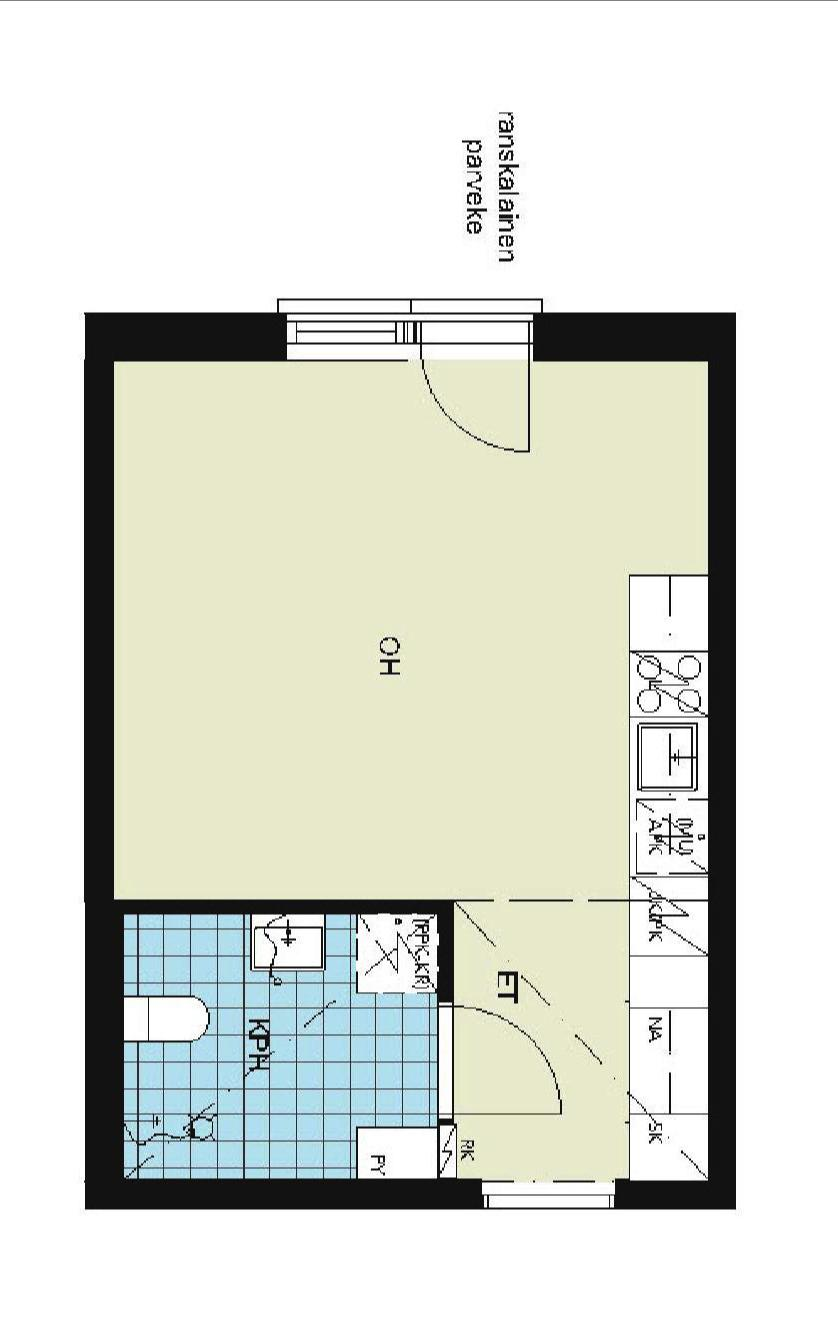door: (409, 312, 538, 463), (438, 998, 569, 1124)
window: (259, 298, 423, 373), (470, 1167, 630, 1212)
